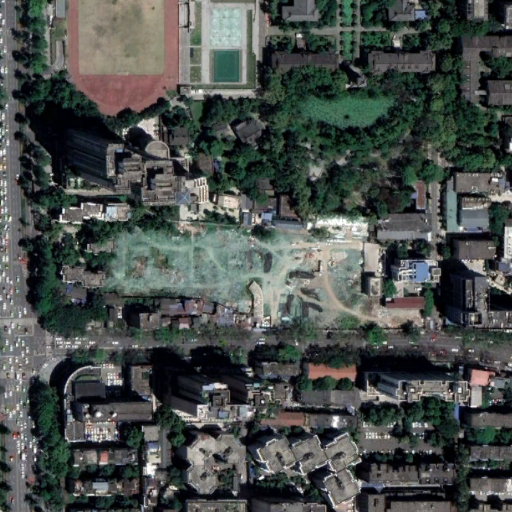cw: (103, 221, 425, 330)
